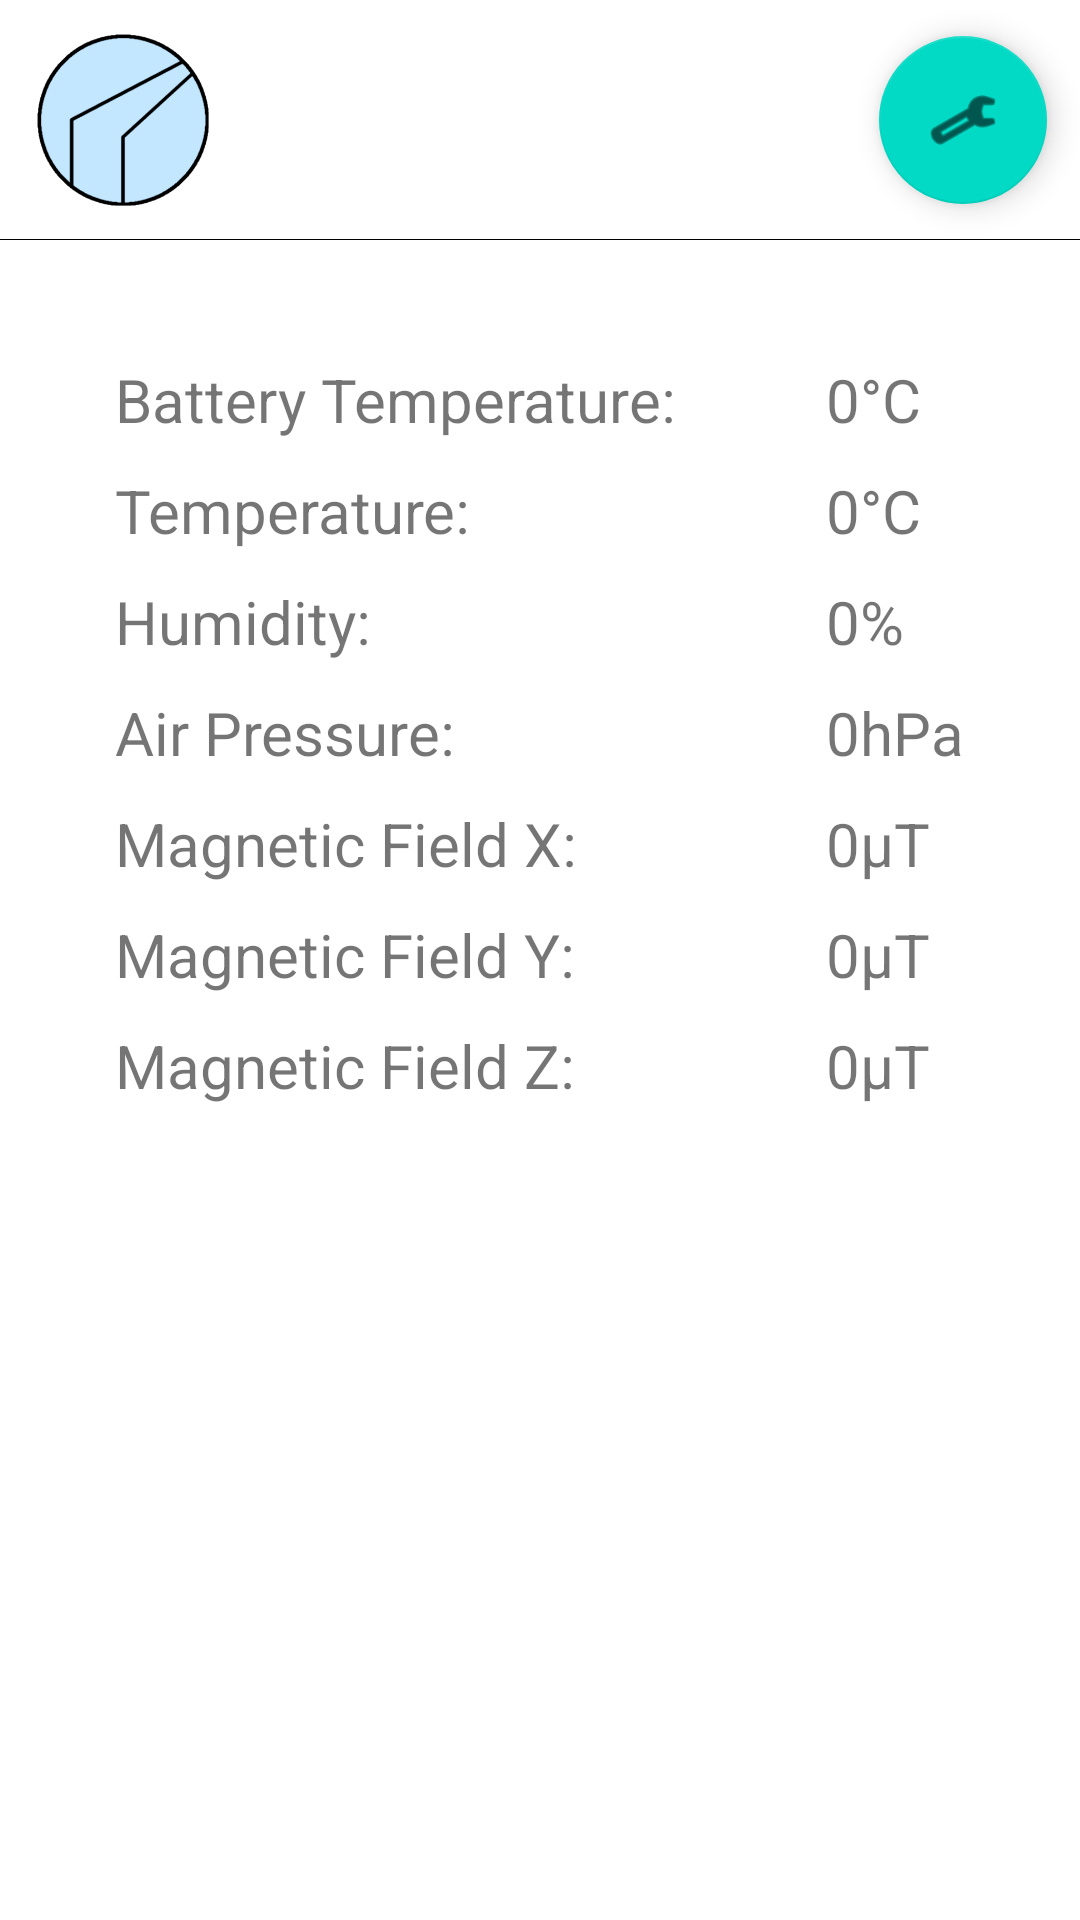

Named icons in this screenshot (1080*1920) and their centers, point (x, y):
preferences: point (963, 120)
